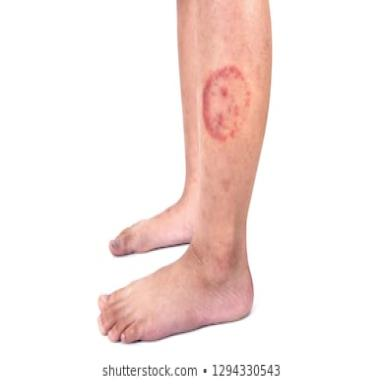Tinea-Corporis: (203, 66, 251, 141)
